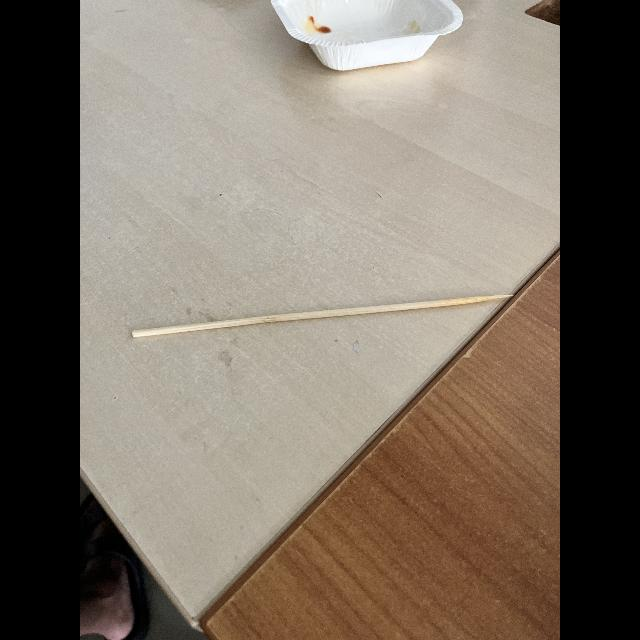cardboard_bowl: (263, 0, 487, 94)
stick: (123, 272, 535, 364)
